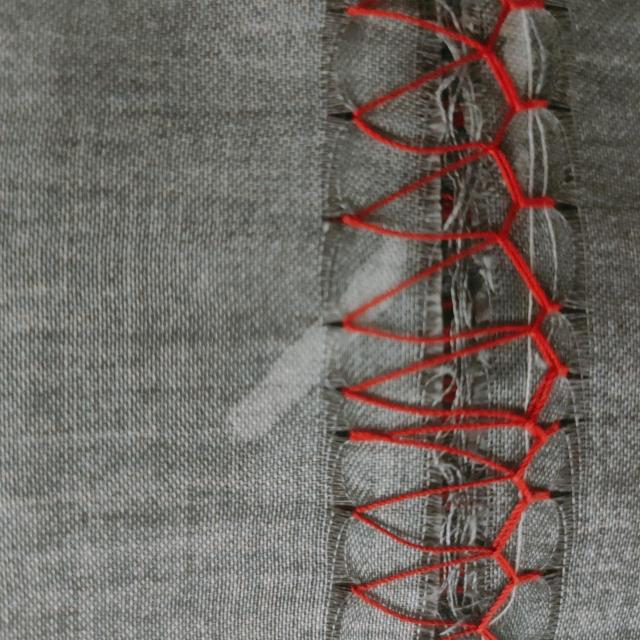gray stitch: (325, 4, 569, 640)
